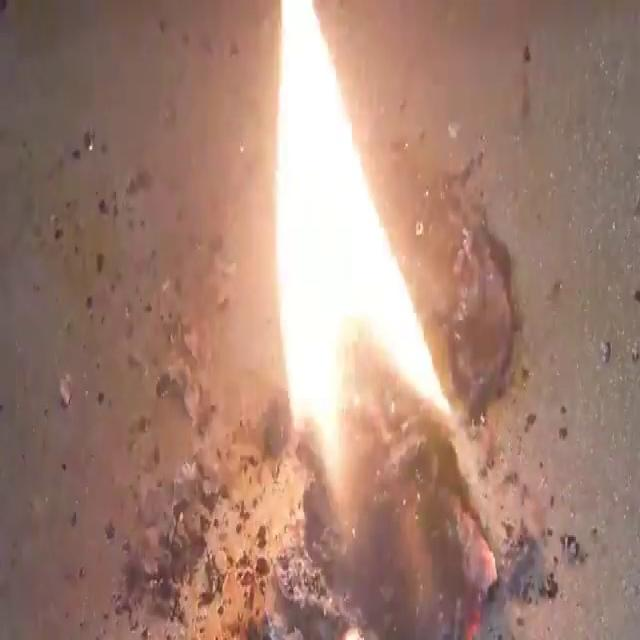Fire: (3, 4, 636, 636), (270, 2, 455, 476)
